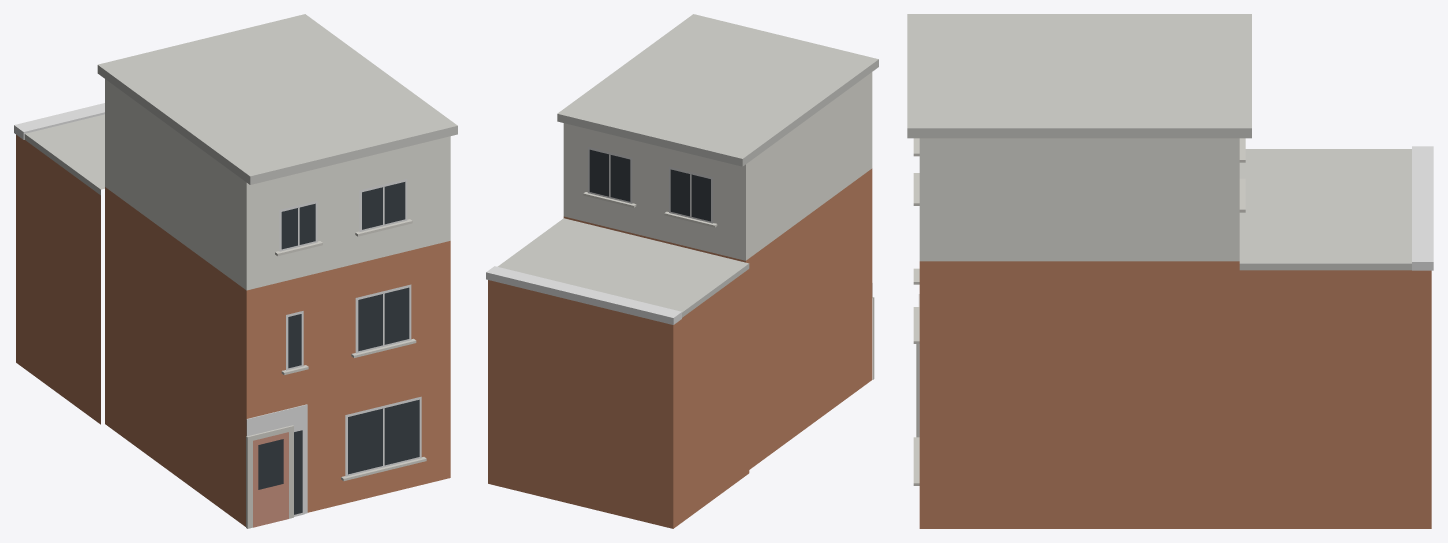
File: nw-os-band__brick__3__flat__long__solid.glb
3 views of the same model, side by side, from view 1: azimuth 30°, elevation 25°; view 2: azimuth 150°, elevation 25°; view 3: azimuth 270°, elevation 25° (orthographic). The views are drawn at different scales.
Parts seen in each view (by area): view 1: nw-os-band__brick__3__flat__long__solid; view 2: nw-os-band__brick__3__flat__long__solid; view 3: nw-os-band__brick__3__flat__long__solid.
Boxes of the visible parts, x1,y1,x2,y2 form: nw-os-band__brick__3__flat__long__solid: (14,14,457,528); nw-os-band__brick__3__flat__long__solid: (486,14,878,528); nw-os-band__brick__3__flat__long__solid: (907,14,1433,528).
Size of the model in its own units: 5.58 by 9 by 10.69.
